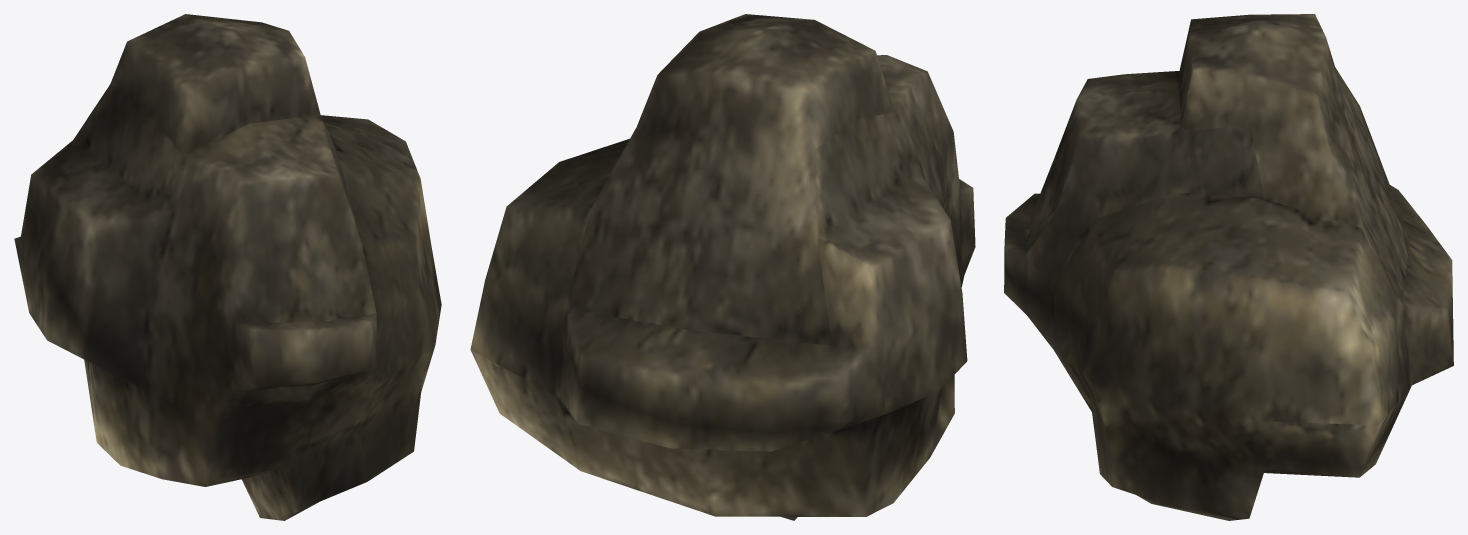
Rendered from roca_2.fbx.
3 renders of one model, left to right at view 1: azimuth 30°, elevation 25°; view 2: azimuth 150°, elevation 25°; view 3: azimuth 270°, elevation 25°, orthographic. The views are drawn at different scales.
Parts seen in each view (by area): view 1: roca_2; view 2: roca_2; view 3: roca_2.
Boxes of the visible parts, x1=… form: roca_2: x1=14, y1=14, x2=441, y2=520; roca_2: x1=470, y1=14, x2=975, y2=520; roca_2: x1=1004, y1=14, x2=1453, y2=520.
Size of the model in its own units: 0.6027 by 0.7235 by 0.6253.
